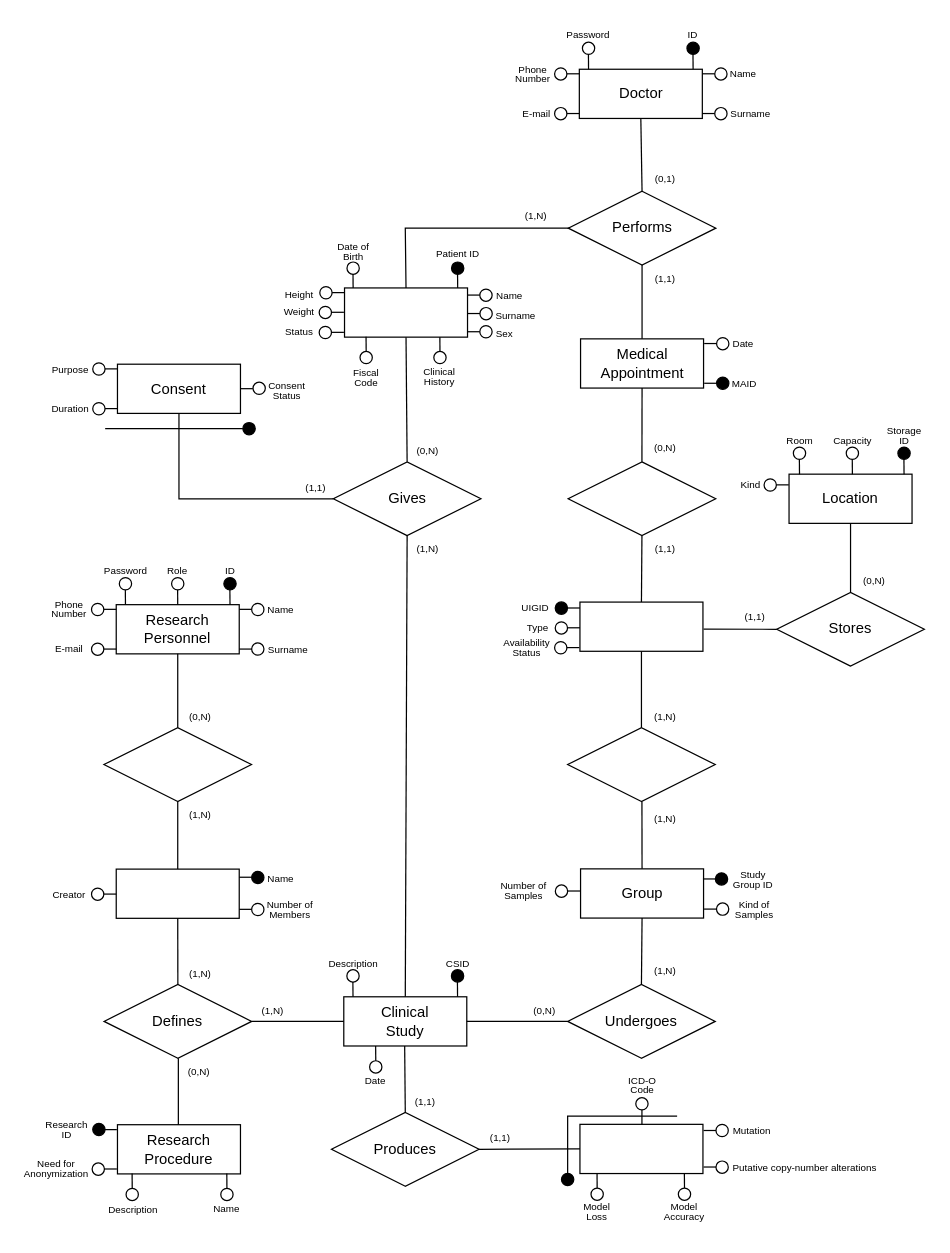
The diagram is 950 pixels wide and 1253 high, and some of its shapes have lost their labels. The centre of each missing label's shape, as x and y in pixels:
"Belongs" goes at pixel 640 763.
"Gathers" goes at pixel 641 498.
"Patient" goes at pixel 405 312.
"Research Team" goes at pixel 177 893.
"Results" goes at pixel 641 1148.
"Sample" goes at pixel 641 626.
"Works-in" goes at pixel 177 763.
